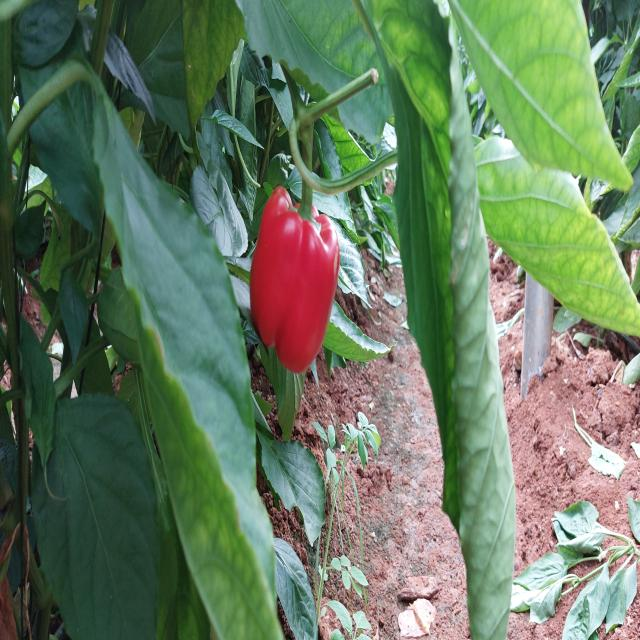Red-Ready-to-Harvest: (256, 182, 340, 382)
